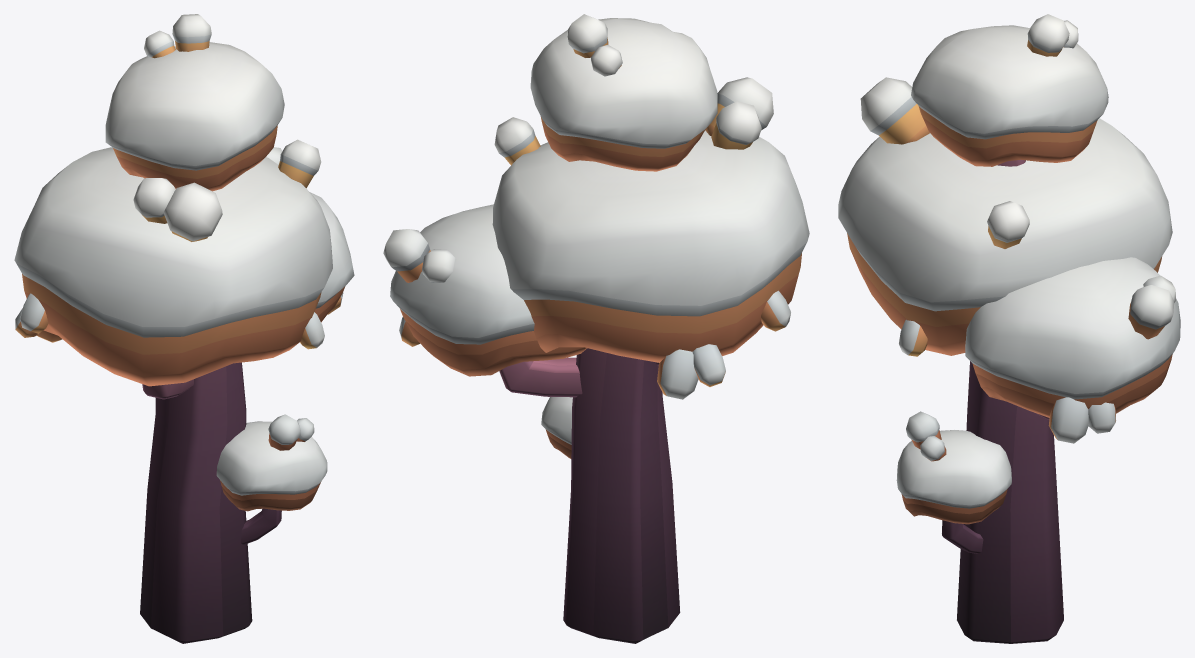
File: grassland_tree_col2_6_snow.fbx
The picture shows the model from 3 angles, left to right: view 1: azimuth 30°, elevation 25°; view 2: azimuth 150°, elevation 25°; view 3: azimuth 270°, elevation 25°; orthographic projection. The views are drawn at different scales.
Parts seen in each view (by area): view 1: grassland_tree_col2_6_snow; view 2: grassland_tree_col2_6_snow; view 3: grassland_tree_col2_6_snow.
Boxes of the visible parts, box(x1,y1,x2,y2) form: grassland_tree_col2_6_snow: box(14, 14, 354, 643); grassland_tree_col2_6_snow: box(383, 14, 809, 643); grassland_tree_col2_6_snow: box(838, 14, 1180, 643).
Size of the model in its own units: 652 by 1085 by 547.
